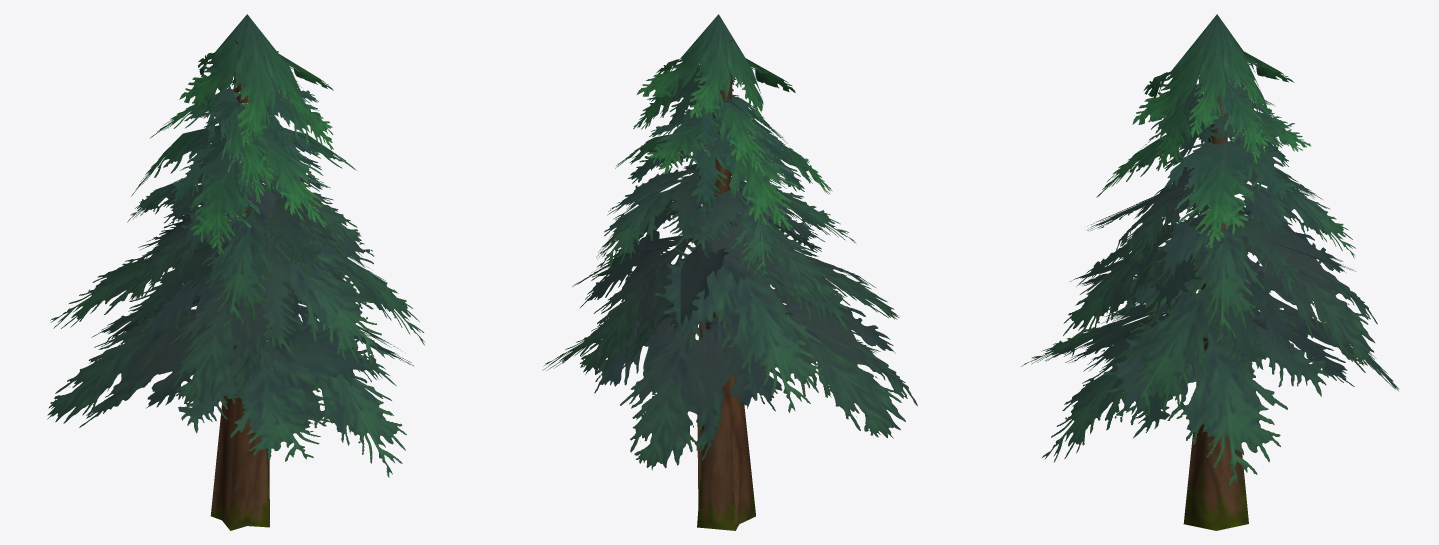
Rendered from tree01.FBX.
The picture shows the model from 3 angles, left to right: view 1: azimuth 30°, elevation 25°; view 2: azimuth 150°, elevation 25°; view 3: azimuth 270°, elevation 25°; orthographic projection.
Parts seen in each view (by area): view 1: M_a1; view 2: M_a1; view 3: M_a1.
Boxes of the visible parts, box(x1,y1,x2,y2) form: M_a1: box(47, 14, 424, 530); M_a1: box(542, 14, 917, 530); M_a1: box(1021, 14, 1398, 530).
Size of the model in its own units: 246 by 292 by 226.
